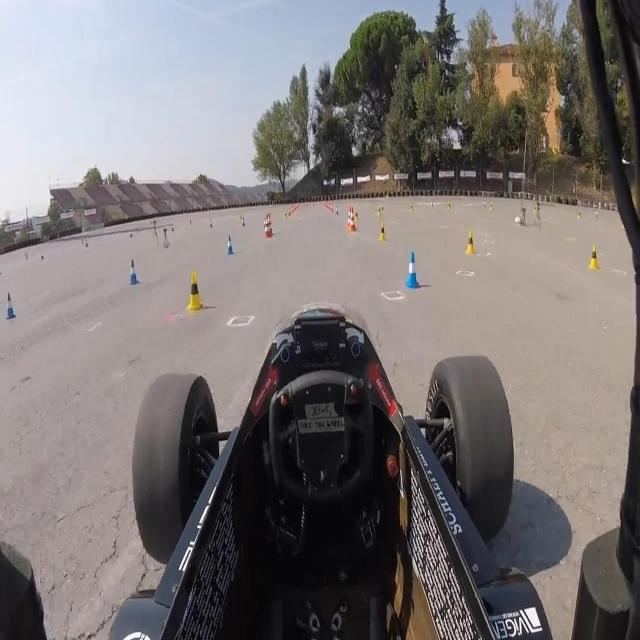blue_cone: (404, 250, 420, 288), (6, 291, 16, 320), (129, 259, 139, 285), (226, 233, 234, 255)
large_orange_cone: (348, 206, 356, 231), (346, 206, 354, 229), (264, 213, 271, 239), (266, 212, 273, 236)
yellow_cone: (186, 271, 201, 311), (588, 243, 599, 270), (465, 230, 475, 256), (379, 220, 387, 242), (355, 209, 359, 222)
